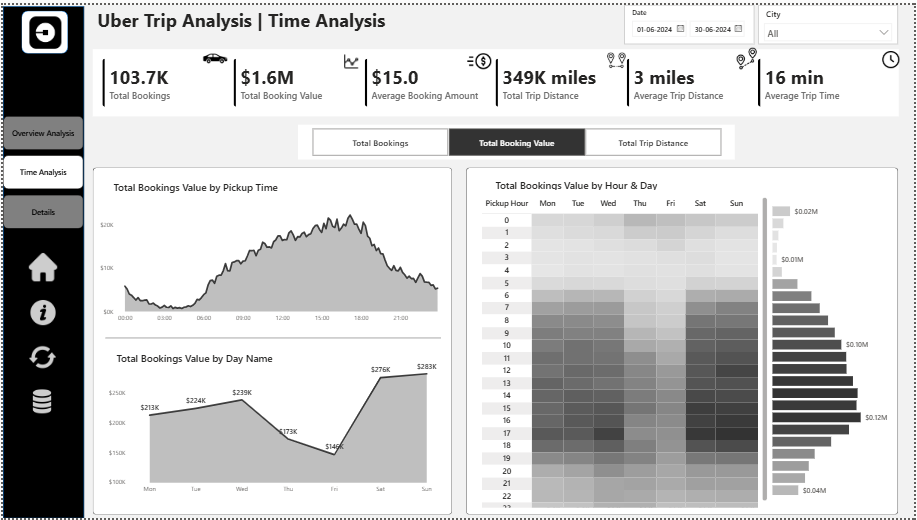

Layout of this report page (visuals, bound fields, positions):
{"tool":"powerbi","page":{"name":"Time Analysis","canvas":[1600,900],"ordinal":1},"visuals":[{"type":"shape","box":[0,2.1,142.4,898.1],"z":0},{"type":"textbox","box":[142.4,0,626,56.5],"z":1000},{"type":"cardVisual","fields":{"Data":["Trip Details.Total Bookings","Trip Details.Total Booking Value","Trip Details.Average Booking Amount","Trip Details.Total Trip Distance","Trip Details.Average Trip Distance","Trip Details.Average Trip Time"]},"box":[158,78,1414,118],"z":2000},{"type":"image","box":[332,70,80,48],"z":3000},{"type":"image","box":[812,78,46,42],"z":4000},{"type":"image","box":[1060,80,32,34],"z":5000},{"type":"image","box":[1284,76,42,38],"z":6000},{"type":"image","box":[1542,80,30,32],"z":7000},{"type":"shape","box":[157,284.7,630.2,609.2],"z":8000},{"type":"slicer","fields":{"Values":["Calendar Table.Date"]},"box":[1090.7,0,228.2,69.1],"z":9000},{"type":"image","box":[584,86,52,28],"z":10000},{"type":"slicer","fields":{"Values":["Location Table.City"]},"box":[1325.2,0,244.9,69.1],"z":11000},{"type":"areaChart","fields":{"Y":["Trip Details.Total Booking Value"],"Category":["Trip Details.Pickup Hour ( HH MM SS) (bins)"]},"box":[165.4,332.9,615.5,234.5],"z":12000},{"type":"slicer","fields":{"Values":["Dynamic Measure.Dynamic Measure"]},"box":[517.1,209.4,766.2,60.7],"z":13000},{"type":"cardVisual","fields":{"Data":["Trip Details.Title for by Pickup Time"]},"box":[165.4,284.7,381,64.9],"z":14000},{"type":"lineChart","fields":{"Y":["Trip Details.Total Booking Value"],"Category":["Calendar Table.Day Name"]},"box":[180,615.5,600.9,251.2],"z":15000},{"type":"cardVisual","fields":{"Data":["Trip Details.Title for by Day Name"]},"box":[169.6,584.1,372.7,64.9],"z":16000},{"type":"shape","box":[180,515,588.3,138.2],"z":17000},{"type":"shape","box":[812.3,284.7,757.9,609.2],"z":18000},{"type":"pivotTable","fields":{"Values":["Trip Details.Total Booking Value"],"Rows":["Trip Details.Pickup Hour"],"Columns":["Calendar Table.Day Name"]},"box":[835.3,332.9,510.8,554.8],"z":19000},{"type":"barChart","fields":{"Y":["Trip Details.Total Booking Value"],"Category":["Trip Details.Pickup Hour"]},"box":[1346.2,341.2,211.4,546.4],"z":20000},{"type":"cardVisual","fields":{"Data":["Trip Details.Title for by Hour & Day"]},"box":[835.3,286.8,395.7,54.4],"z":21000},{"type":"pageNavigator","box":[0,194.9,141.6,198.6],"z":22000},{"type":"group","id":"g1","title":"Group 1","box":[31.4,10.5,81.6,75.4],"z":23000},{"type":"image","box":[42.3,435.7,55.2,49.6],"z":24000},{"type":"image","box":[42.3,518.5,55.2,44.1],"z":25000},{"type":"image","box":[47.8,658.2,42.3,75.4],"z":26000},{"type":"image","box":[40.4,595.7,58.8,46],"z":28000},{"type":"shape","box":[31.4,10.5,81.6,75.4],"z":33000,"group":"g1"},{"type":"image","box":[37.7,21,69.1,56.5],"z":34000,"group":"g1"}]}

Visuals, with their boxes on the page's 1600x900 design canvas (x1, y1, x2, y2). These are canvas units, not pixel positions in the 917x520 screenshot, which may show the page scaled, cropped or inside an application window:
shape: rect(0, 2, 142, 900)
textbox: rect(142, 0, 768, 56)
cardVisual - Trip Details.Total Bookings x Trip Details.Total Booking Value: rect(158, 78, 1572, 196)
image: rect(332, 70, 412, 118)
image: rect(812, 78, 858, 120)
image: rect(1060, 80, 1092, 114)
image: rect(1284, 76, 1326, 114)
image: rect(1542, 80, 1572, 112)
shape: rect(157, 285, 787, 894)
slicer - Calendar Table.Date: rect(1091, 0, 1319, 69)
image: rect(584, 86, 636, 114)
slicer - Location Table.City: rect(1325, 0, 1570, 69)
areaChart - Trip Details.Total Booking Value x Trip Details.Pickup Hour ( HH MM SS) (bins): rect(165, 333, 781, 567)
slicer - Dynamic Measure.Dynamic Measure: rect(517, 209, 1283, 270)
cardVisual - Trip Details.Title for by Pickup Time: rect(165, 285, 546, 350)
lineChart - Trip Details.Total Booking Value x Calendar Table.Day Name: rect(180, 616, 781, 867)
cardVisual - Trip Details.Title for by Day Name: rect(170, 584, 542, 649)
shape: rect(180, 515, 768, 653)
shape: rect(812, 285, 1570, 894)
pivotTable - Trip Details.Total Booking Value x Trip Details.Pickup Hour: rect(835, 333, 1346, 888)
barChart - Trip Details.Total Booking Value x Trip Details.Pickup Hour: rect(1346, 341, 1558, 888)
cardVisual - Trip Details.Title for by Hour & Day: rect(835, 287, 1231, 341)
pageNavigator: rect(0, 195, 142, 394)
"Group 1" group: rect(31, 10, 113, 86)
image: rect(42, 436, 98, 485)
image: rect(42, 518, 98, 563)
image: rect(48, 658, 90, 734)
image: rect(40, 596, 99, 642)
shape: rect(31, 10, 113, 86)
image: rect(38, 21, 107, 78)
